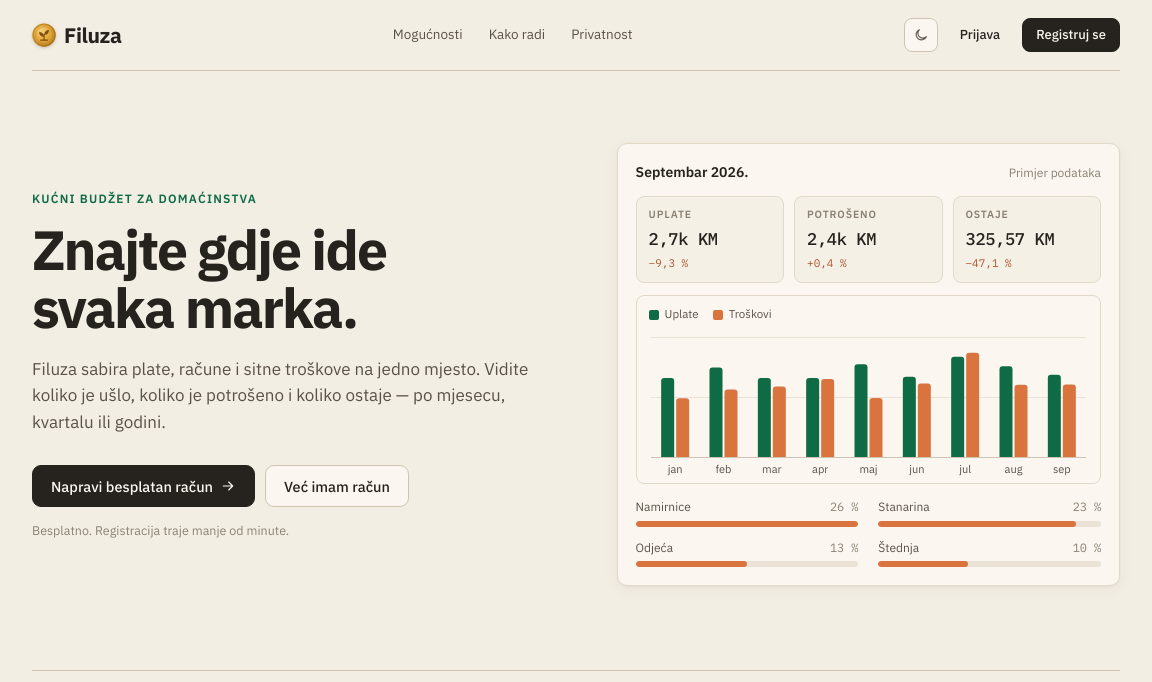
it: početna stranica › neprijavljenom korisniku nudi registraciju i prijavu
The image size is (1152, 682).
Check: the heading "Znajte gdje ide svaka marka." is shown, box [32, 213, 386, 343]
Step 1. Click the link "Registruj se" → (1071, 35), box [1022, 18, 1120, 52]
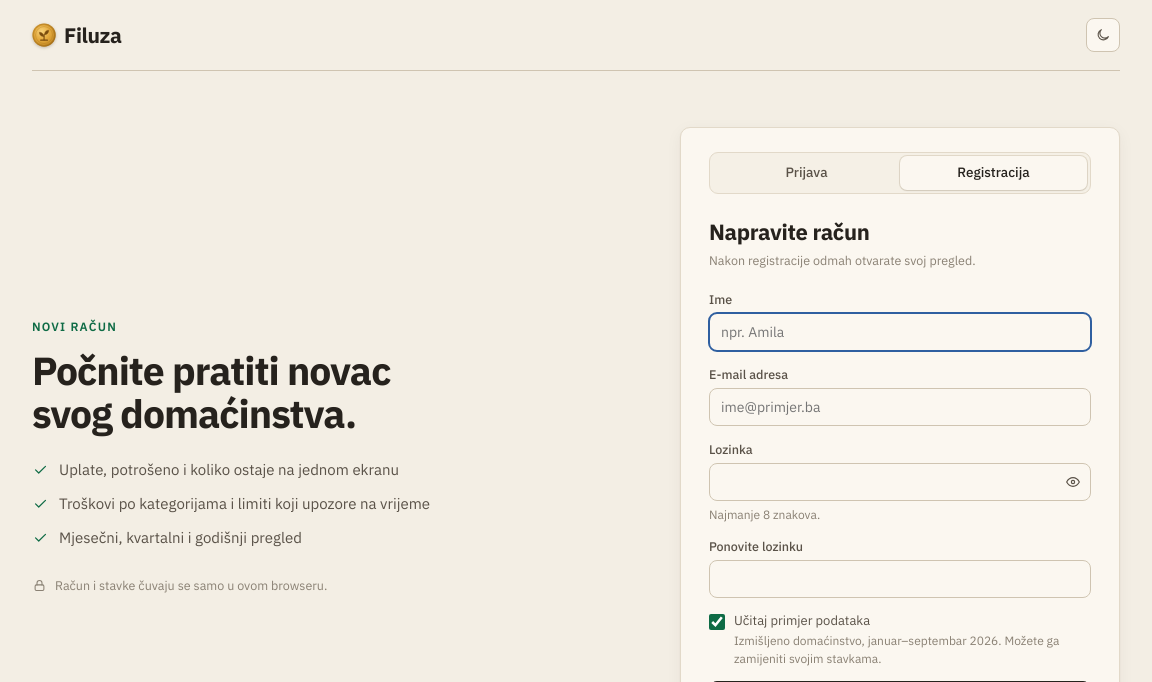
Check: the heading "Napravite račun" is shown, box [709, 217, 870, 246]
